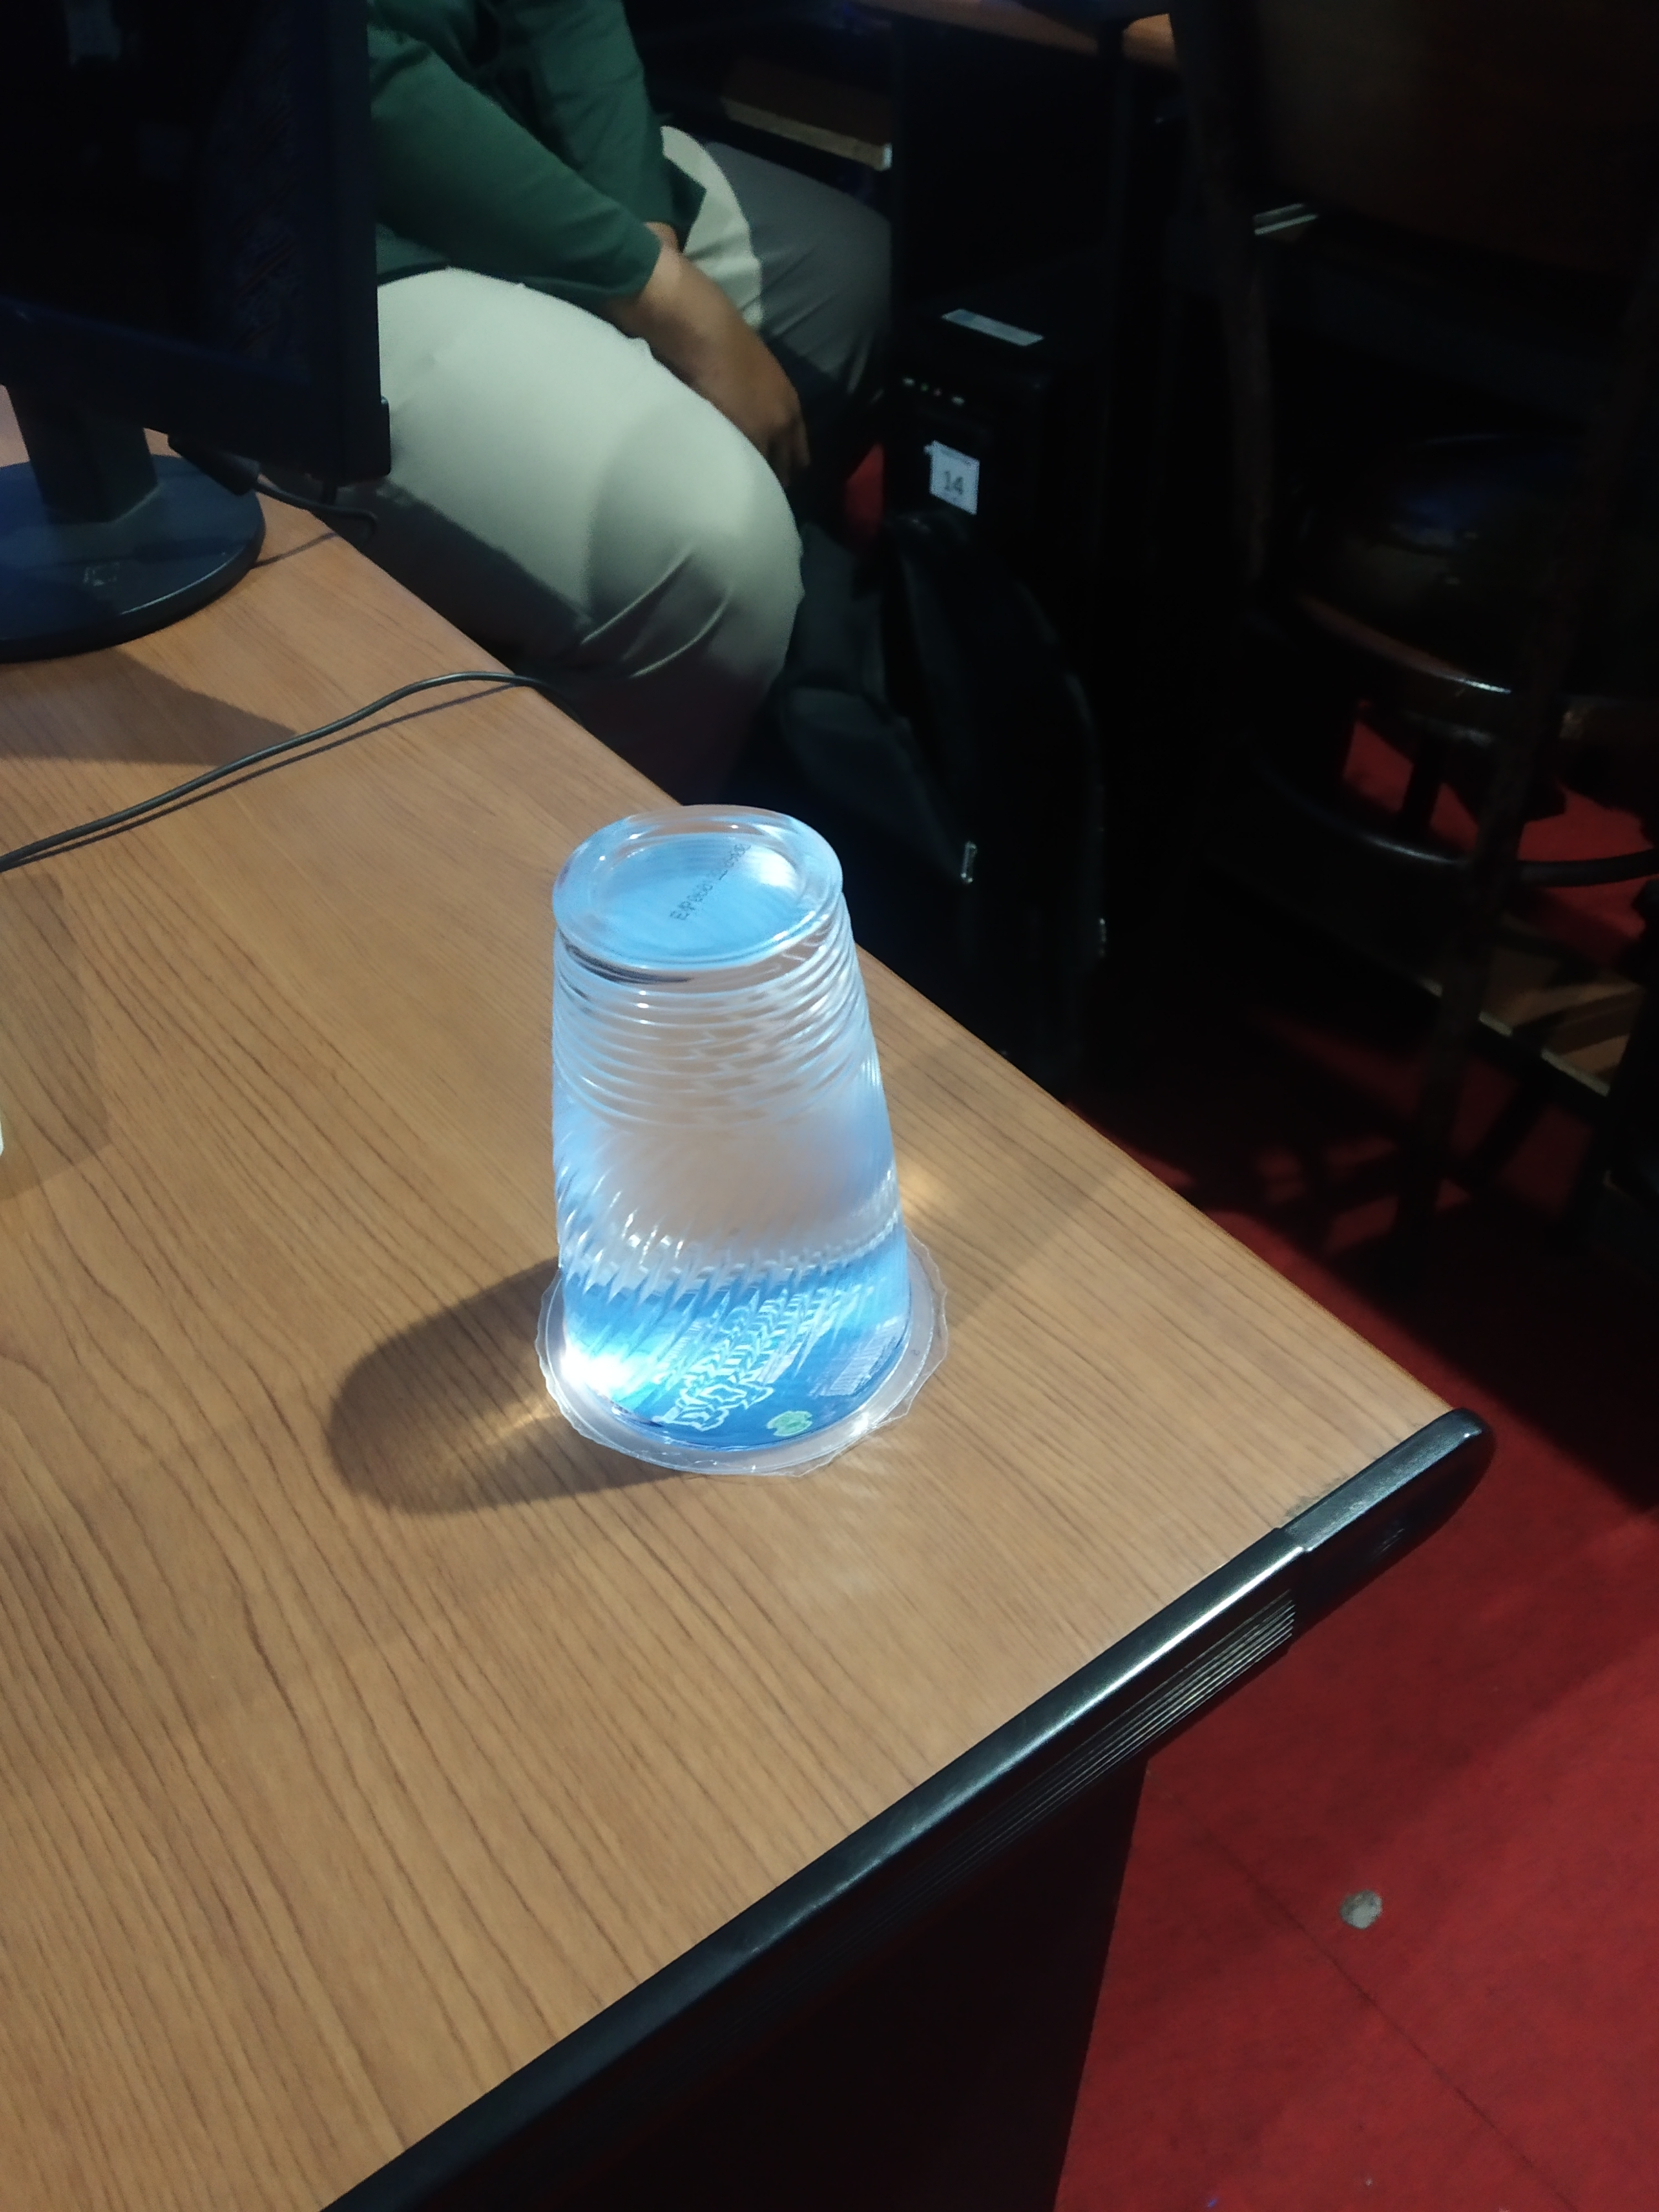gelas_plastik: (519, 798, 962, 1503)
